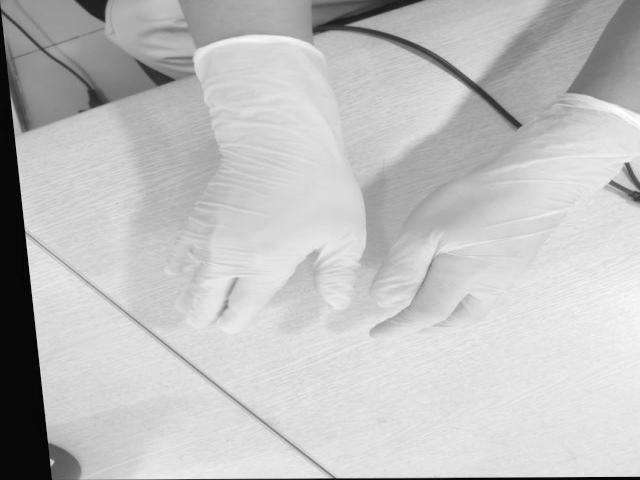gloved: (174, 147, 368, 331), (372, 166, 566, 334)
